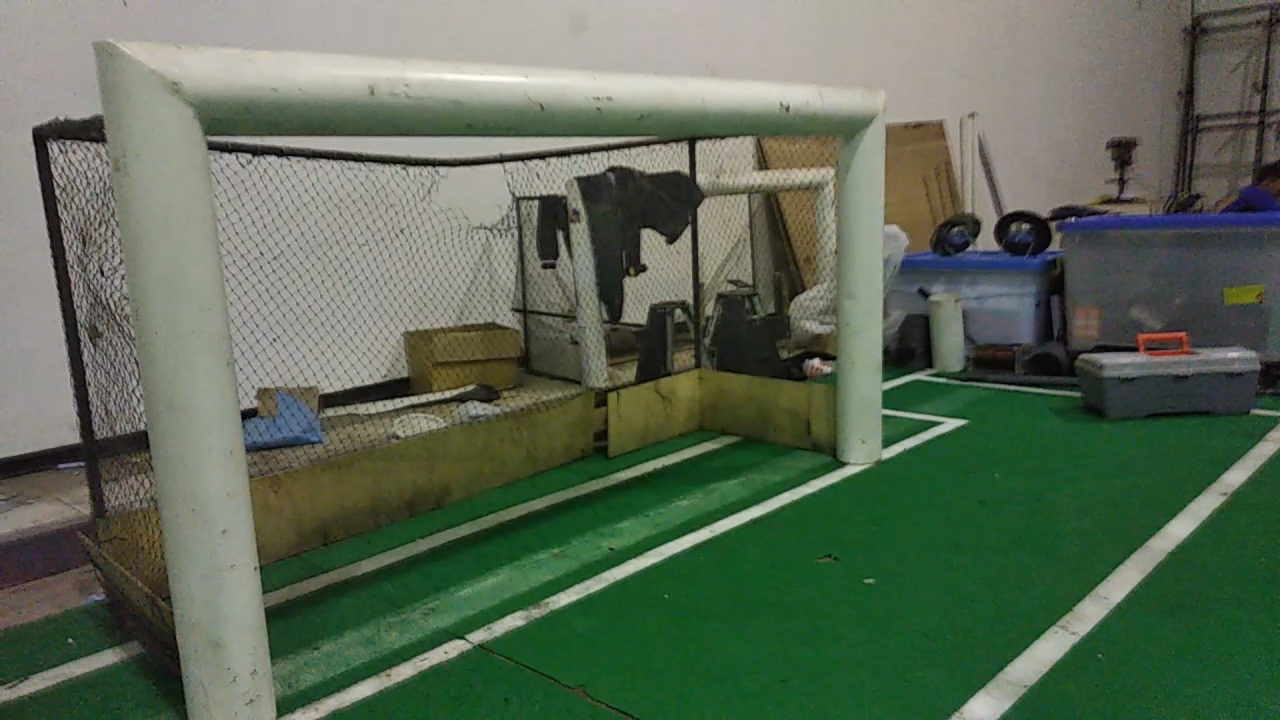gawang: (79, 28, 906, 719)
